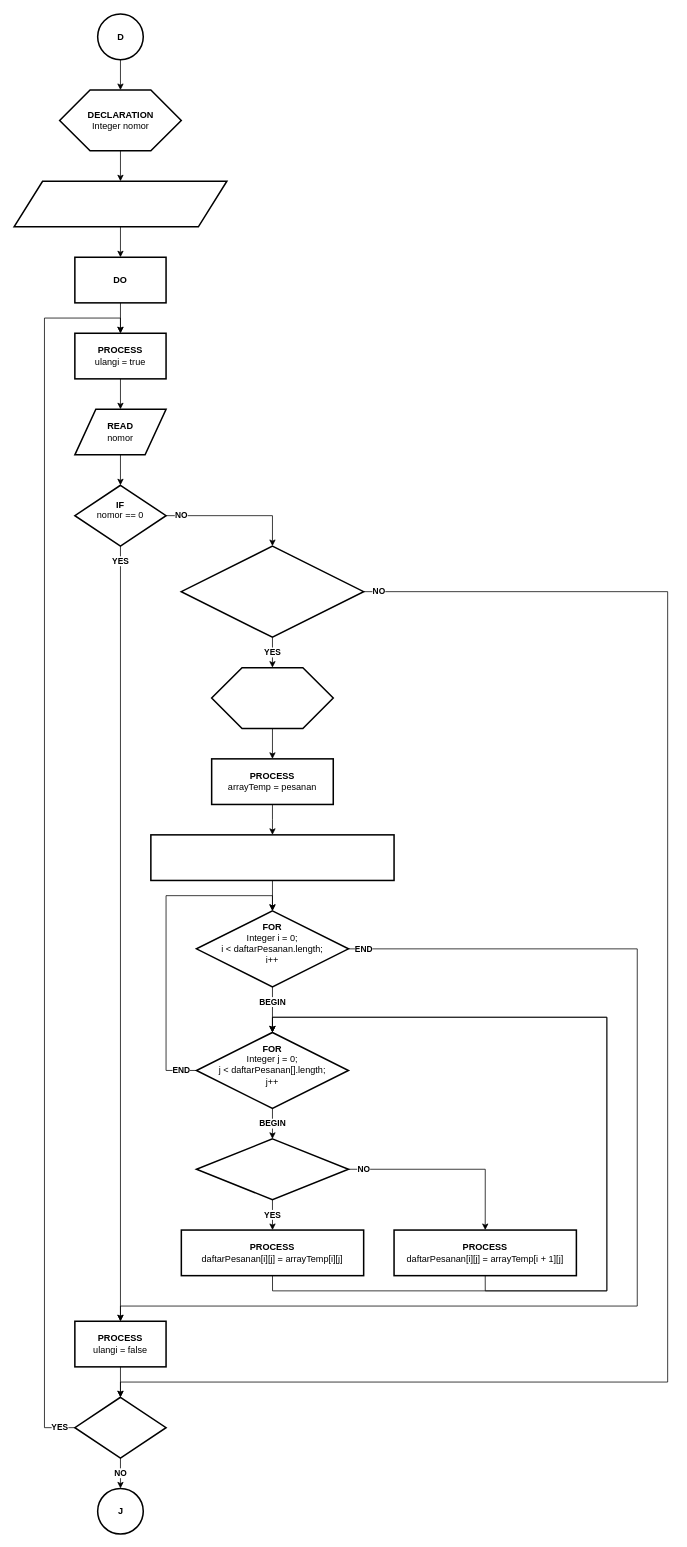
The diagram is 687 pixels wide and 1547 high, and some of its shapes have lost their labels. Each missing label, with the box of its shape:
DECLARATION String[][] arrayTemp: (211, 667, 334, 729)
IF i < nomor - 1: (195, 1138, 349, 1200)
IF nomor > 0 && nomor <= daftarPesanan.length: (180, 545, 364, 638)
PROCESS daftarPesanan = new String[daftarPesanan.length - 1][6]: (150, 834, 394, 881)
WHILE ulangi: (74, 1396, 166, 1458)
WRITE "Pilih nomor (ketik 0 untuk kembali) : ": (13, 180, 227, 227)
